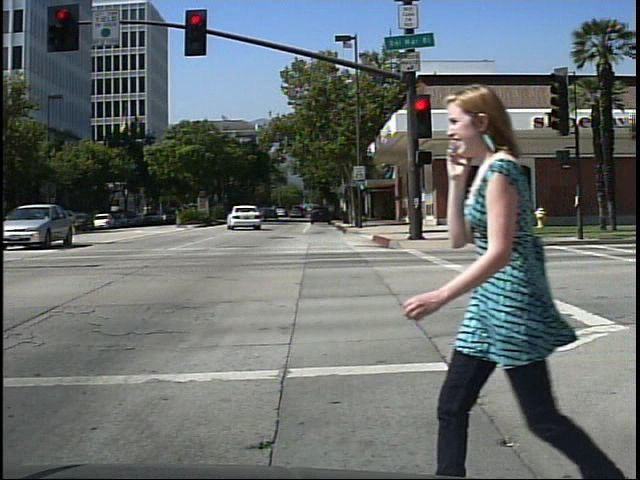person: (416, 80, 628, 480)
